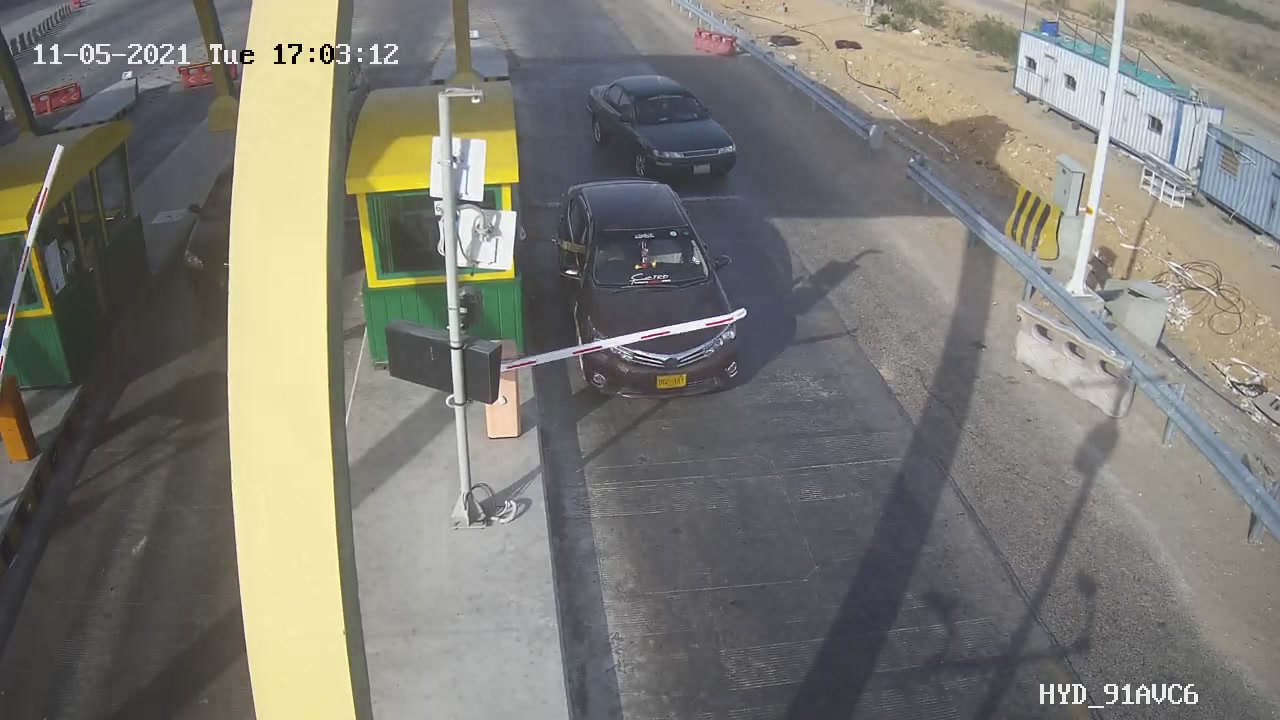F1: (543, 165, 774, 420), (573, 59, 753, 199)
